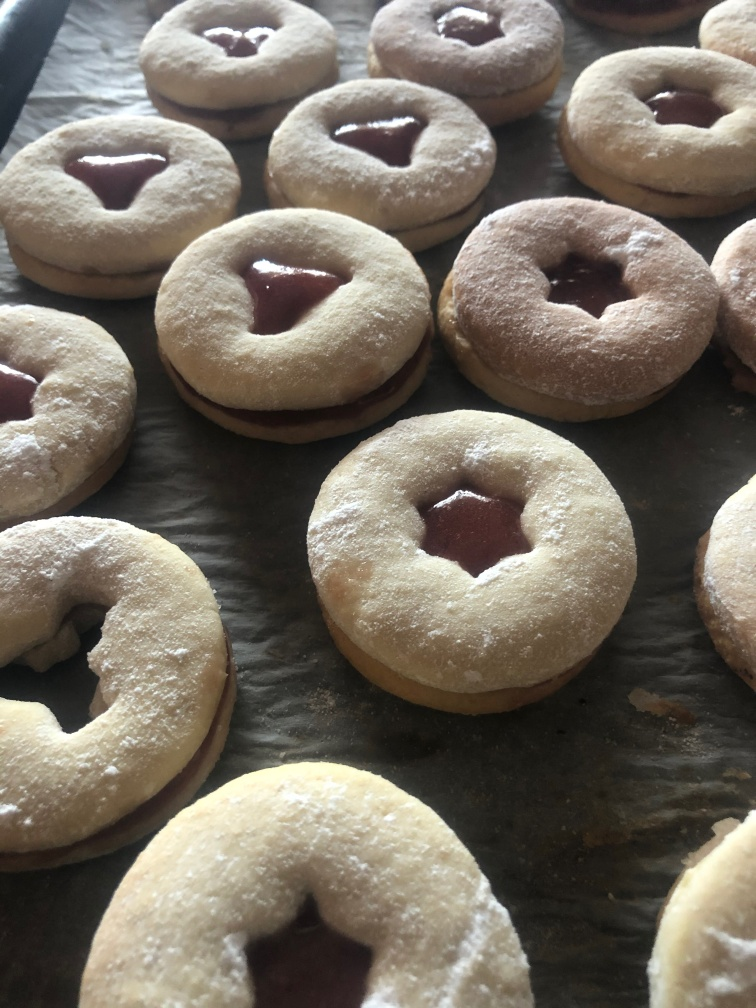christmas shortbread with jam: (85, 759, 537, 1008), (308, 407, 641, 712), (3, 513, 238, 865), (154, 204, 433, 429), (446, 197, 716, 423), (4, 117, 242, 292), (266, 79, 494, 243), (566, 47, 756, 210), (1, 300, 139, 515), (141, 1, 338, 128), (371, 1, 565, 113)
